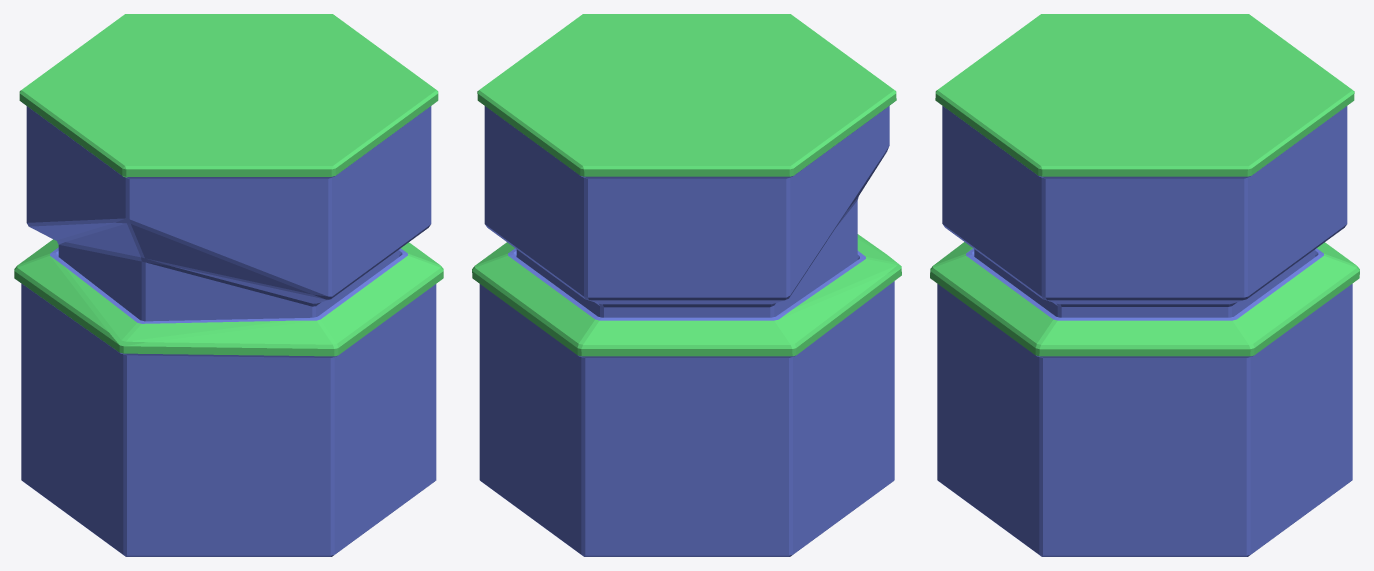
File: Rock 4.fbx
3 renders of one model, left to right at view 1: azimuth 30°, elevation 25°; view 2: azimuth 150°, elevation 25°; view 3: azimuth 270°, elevation 25°, orthographic.
Parts seen in each view (by area): view 1: Rock 4; view 2: Rock 4; view 3: Rock 4.
Boxes of the visible parts, x1,y1,x2,y2 form: Rock 4: (14,14,443,556); Rock 4: (472,14,901,556); Rock 4: (930,14,1359,556).
Bounding box in the file's own units: 179 × 207 × 206.
